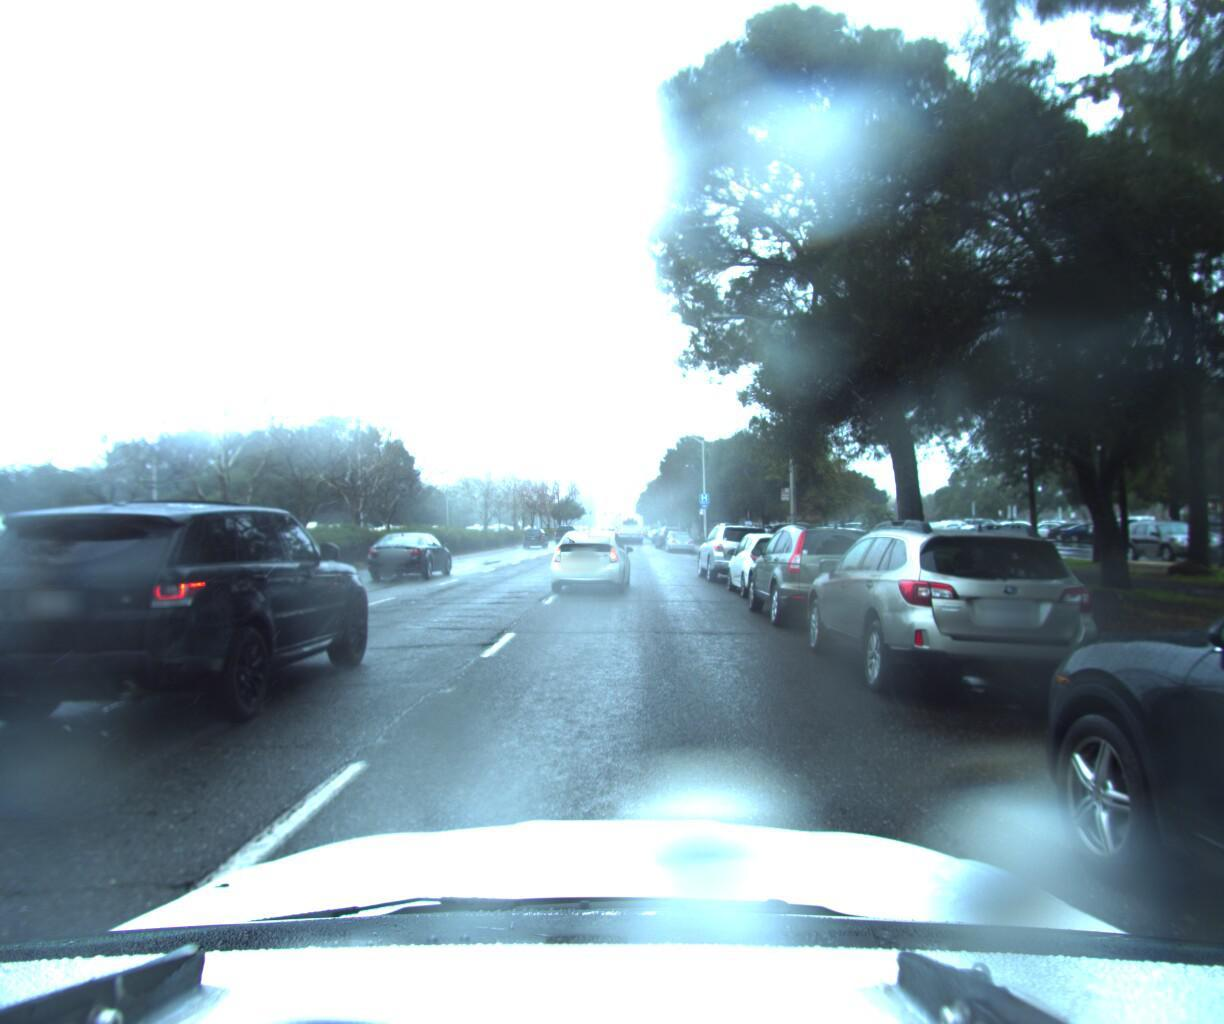bus: (617, 508, 647, 542)
car: (789, 507, 1126, 714), (741, 520, 910, 633), (720, 529, 816, 598), (544, 521, 631, 592), (361, 526, 460, 580), (694, 518, 776, 583), (650, 523, 679, 548), (661, 529, 693, 551), (525, 530, 553, 550), (556, 525, 582, 543)
